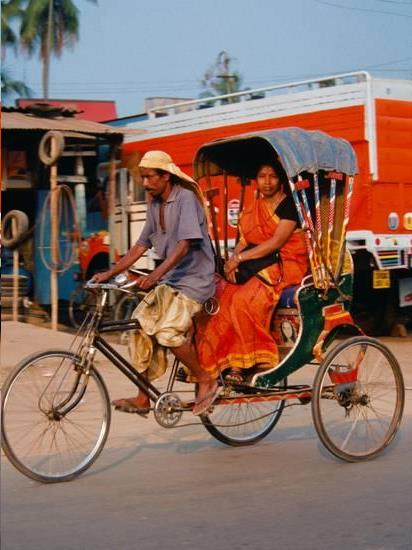Rickshaw: (11, 126, 389, 473)
